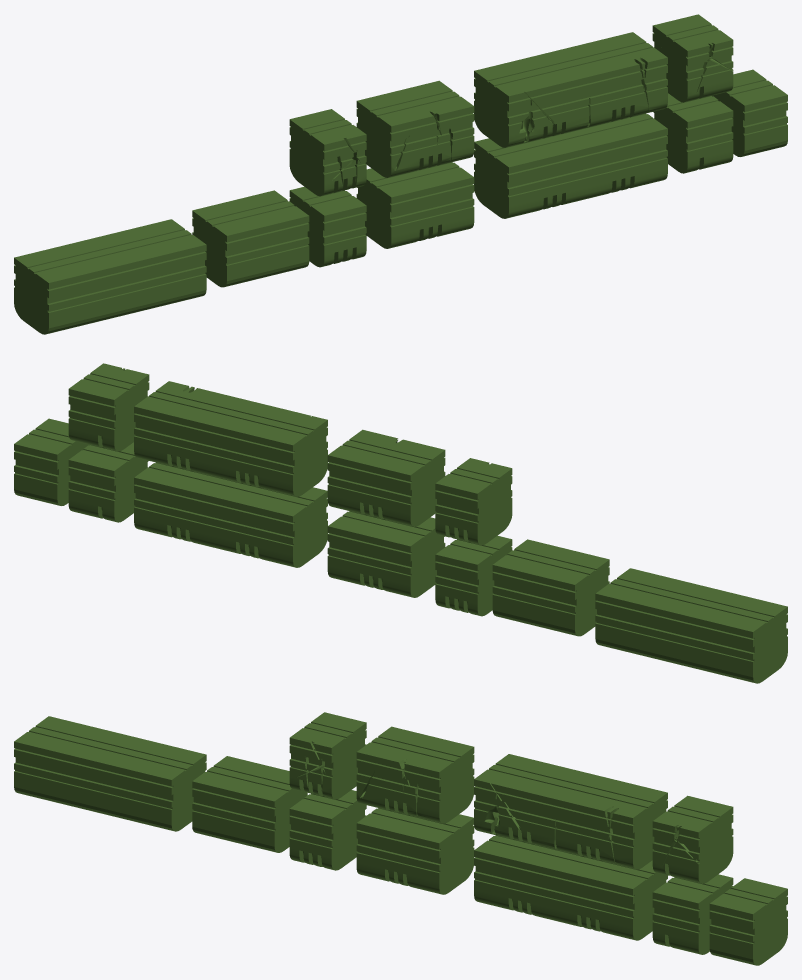
File: chao.fbx
3 renders of one model, top to bottom at view 1: azimuth 30°, elevation 25°; view 2: azimuth 150°, elevation 25°; view 3: azimuth 330°, elevation 25°, orthographic.
Visible parts, largest first — view 1: pontes_quebradas_ponte19, ponte1, ponte5, pontes_quebradas_ponte7, ponte8, ponte4, pontes_quebradas_ponte18, pontes_quebradas_ponte14, ponte6, ponte3, ponte7; view 2: pontes_quebradas_ponte19, ponte1, ponte5, pontes_quebradas_ponte7, ponte8, ponte4, pontes_quebradas_ponte18, pontes_quebradas_ponte14, ponte6, ponte3, ponte7; view 3: pontes_quebradas_ponte19, ponte1, ponte5, pontes_quebradas_ponte7, ponte4, ponte8, pontes_quebradas_ponte14, ponte7, pontes_quebradas_ponte18, ponte3, ponte6.
Part boxes in pixels (<box>): pontes_quebradas_ponte19: <box>474,32,667,147</box>; ponte1: <box>14,219,206,334</box>; ponte5: <box>474,113,667,218</box>; pontes_quebradas_ponte7: <box>356,80,474,177</box>; ponte8: <box>192,190,309,287</box>; ponte4: <box>356,162,474,248</box>; pontes_quebradas_ponte18: <box>289,109,366,196</box>; pontes_quebradas_ponte14: <box>652,14,733,102</box>; ponte6: <box>653,93,733,173</box>; ponte3: <box>289,186,366,267</box>; ponte7: <box>712,69,787,156</box>; pontes_quebradas_ponte19: <box>134,381,327,496</box>; ponte1: <box>595,568,787,683</box>; ponte5: <box>134,462,327,567</box>; pontes_quebradas_ponte7: <box>327,429,445,526</box>; ponte8: <box>492,539,609,636</box>; ponte4: <box>327,511,445,597</box>; pontes_quebradas_ponte18: <box>435,458,512,545</box>; pontes_quebradas_ponte14: <box>68,363,149,451</box>; ponte6: <box>68,442,148,522</box>; ponte3: <box>435,535,512,616</box>; ponte7: <box>14,418,89,505</box>; pontes_quebradas_ponte19: <box>474,754,667,869</box>; ponte1: <box>14,716,206,831</box>; ponte5: <box>474,835,667,940</box>; pontes_quebradas_ponte7: <box>356,726,474,823</box>; ponte4: <box>356,808,474,894</box>; ponte8: <box>192,756,307,852</box>; pontes_quebradas_ponte14: <box>652,795,733,883</box>; ponte7: <box>709,878,787,965</box>; pontes_quebradas_ponte18: <box>289,712,366,799</box>; ponte3: <box>289,790,366,870</box>; ponte6: <box>652,874,733,954</box>.
Size of the model in its own units: 2532 by 434 by 207.
